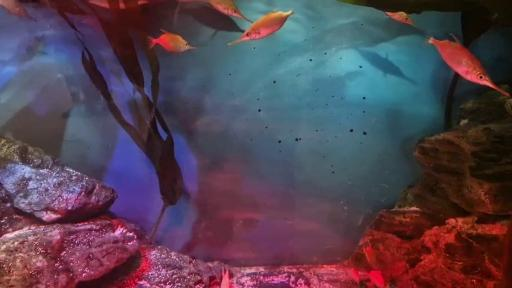Fish: (429, 35, 509, 96), (228, 10, 293, 45), (180, 5, 243, 41), (356, 49, 417, 85), (177, 0, 253, 22), (182, 6, 243, 33), (0, 35, 47, 69), (148, 30, 196, 52), (208, 0, 253, 22), (0, 0, 37, 21), (502, 220, 511, 287), (385, 12, 417, 27), (363, 245, 378, 269), (369, 271, 385, 287), (88, 0, 112, 9), (220, 268, 231, 287), (351, 268, 360, 283), (504, 99, 511, 115)
